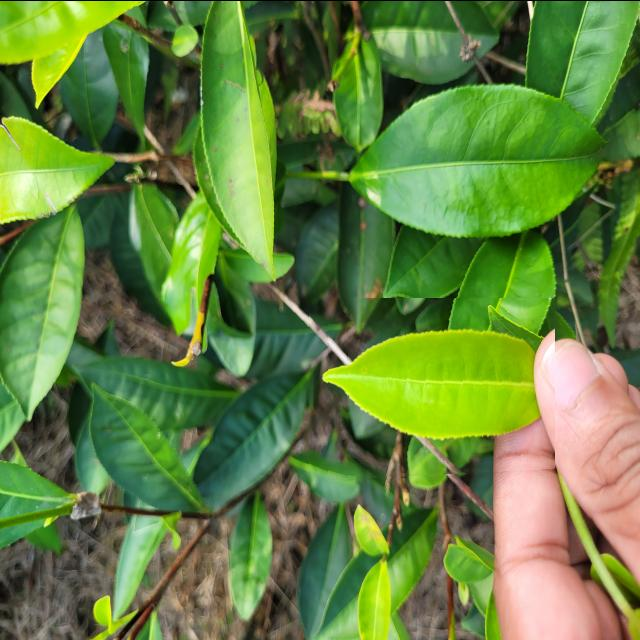Category B(2-4 days): (299, 297, 555, 481)
